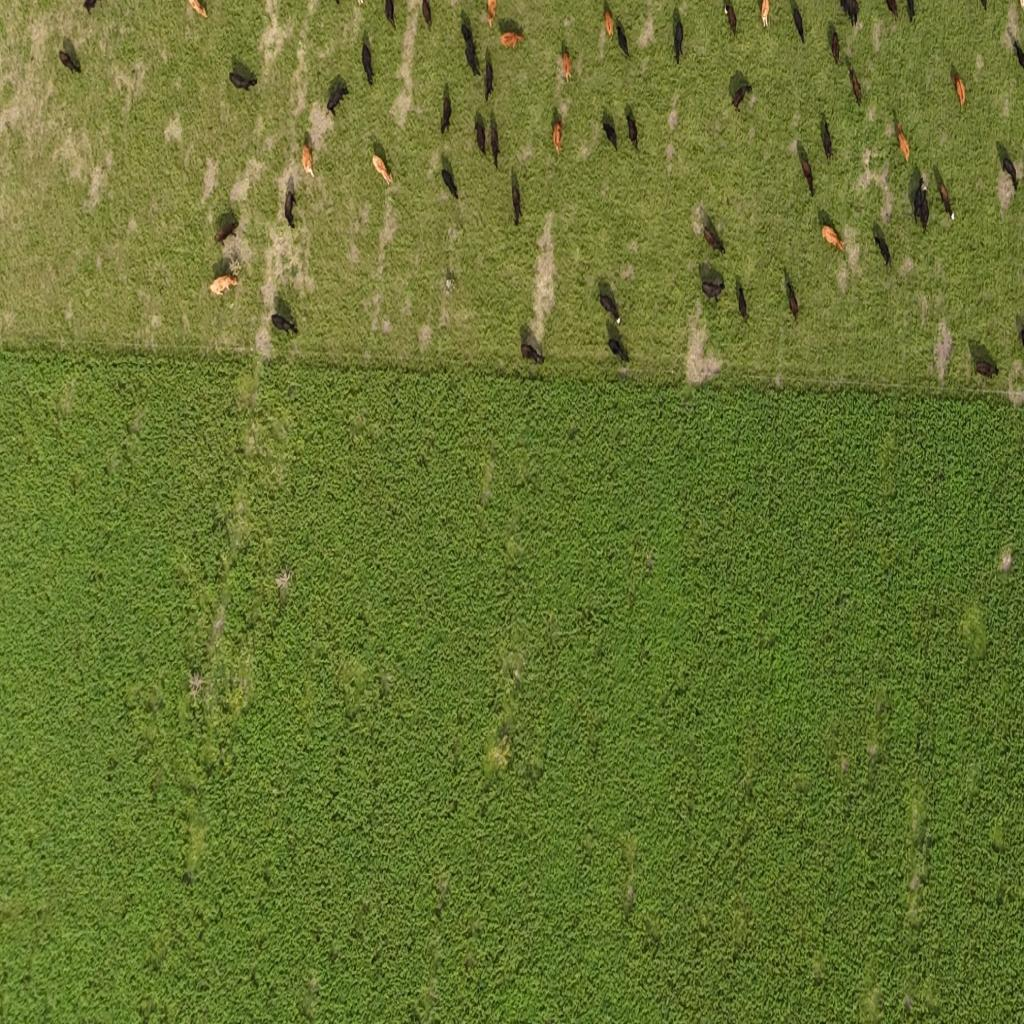cow: (994, 138, 1020, 192), (461, 18, 481, 78), (936, 172, 956, 225), (326, 76, 350, 118), (58, 35, 82, 76), (702, 214, 726, 254), (913, 175, 930, 231), (598, 286, 622, 324), (441, 153, 459, 203), (730, 71, 752, 111), (950, 63, 968, 110), (873, 223, 891, 270), (799, 144, 815, 196), (520, 331, 544, 365), (360, 29, 374, 86), (894, 115, 910, 164), (821, 224, 845, 256), (371, 154, 394, 187), (214, 216, 239, 246), (607, 332, 629, 364), (700, 276, 726, 302), (847, 61, 862, 106), (786, 274, 800, 322), (209, 274, 238, 297), (511, 168, 522, 226), (229, 70, 258, 92), (790, 1, 805, 43), (820, 114, 833, 162), (838, 0, 860, 28), (602, 110, 617, 151), (490, 110, 500, 170), (440, 85, 452, 135), (972, 357, 998, 380), (271, 313, 298, 335), (474, 109, 486, 156), (673, 12, 684, 63), (736, 277, 748, 322), (626, 106, 638, 151), (484, 50, 494, 103), (724, 1, 738, 38), (301, 140, 314, 178), (285, 185, 296, 229), (616, 19, 628, 58), (186, 0, 208, 20), (500, 31, 524, 49), (830, 25, 840, 67), (552, 120, 562, 160), (604, 2, 614, 39), (562, 49, 572, 84), (1016, 32, 1024, 72), (384, 0, 395, 29), (760, 0, 770, 30), (487, 0, 497, 30), (884, 0, 898, 21), (422, 0, 432, 28), (905, 0, 916, 25), (83, 0, 97, 14)
